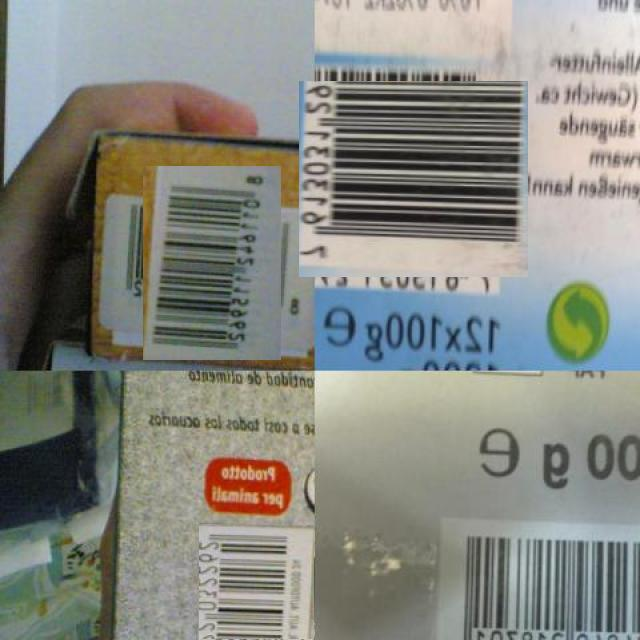Barcode: (307, 72, 520, 285), (129, 180, 295, 347), (437, 520, 640, 640), (199, 524, 315, 640)
